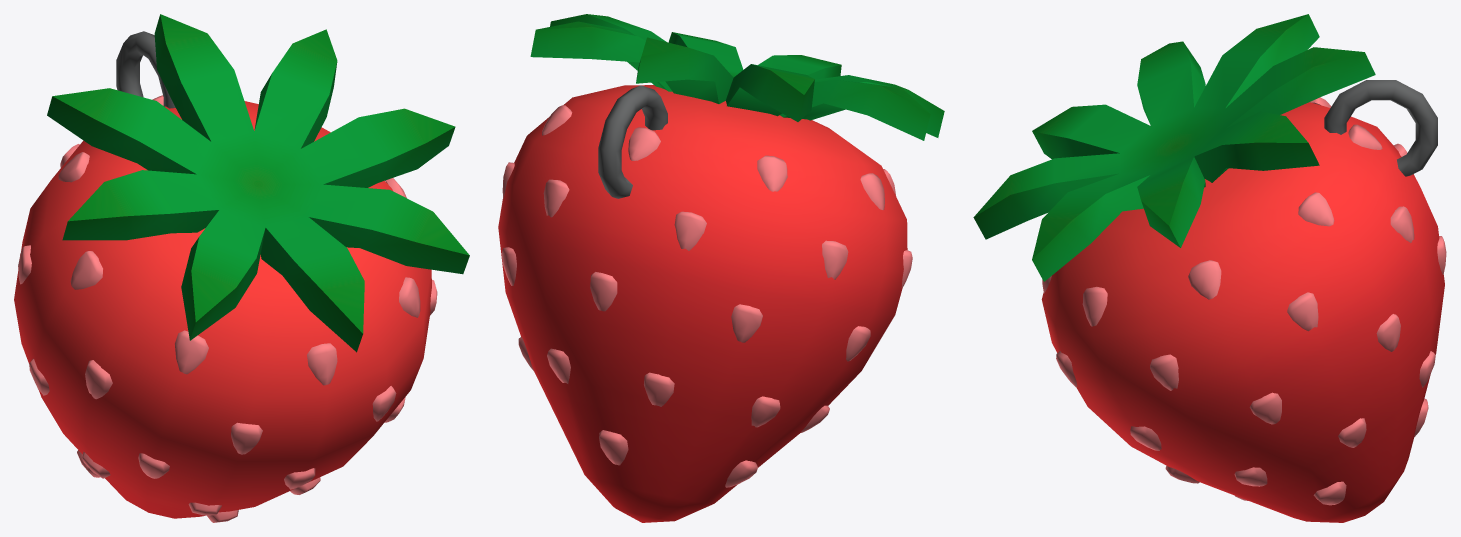
File: Charm_16.fbx
3 renders of one model, left to right at view 1: azimuth 30°, elevation 25°; view 2: azimuth 150°, elevation 25°; view 3: azimuth 270°, elevation 25°, orthographic. The views are drawn at different scales.
Parts seen in each view (by area): view 1: Charm_16; view 2: Charm_16; view 3: Charm_16.
Boxes of the visible parts, x1,y1,x2,y2 form: Charm_16: [14, 14, 469, 522]; Charm_16: [498, 14, 944, 522]; Charm_16: [973, 14, 1446, 522].
Bounding box in the file's own units: 4.63 × 5.49 × 5.07.
